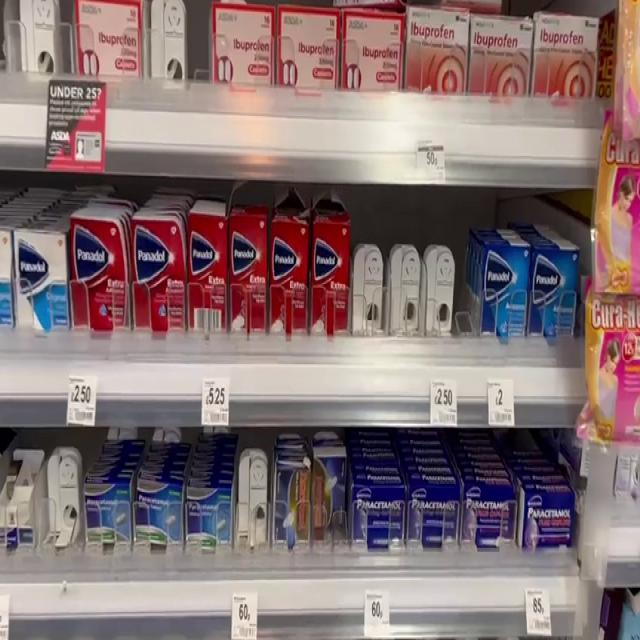Other: (71, 193, 134, 342), (132, 198, 194, 347), (583, 285, 640, 428), (466, 3, 537, 117), (265, 193, 317, 342), (596, 129, 640, 304), (12, 218, 75, 332), (527, 245, 586, 362), (226, 198, 270, 352), (308, 195, 353, 338), (191, 193, 231, 347), (473, 240, 532, 330), (457, 477, 525, 555), (524, 484, 580, 569), (133, 483, 191, 560), (411, 485, 475, 552), (184, 485, 239, 558), (348, 495, 414, 553), (83, 487, 136, 550)
